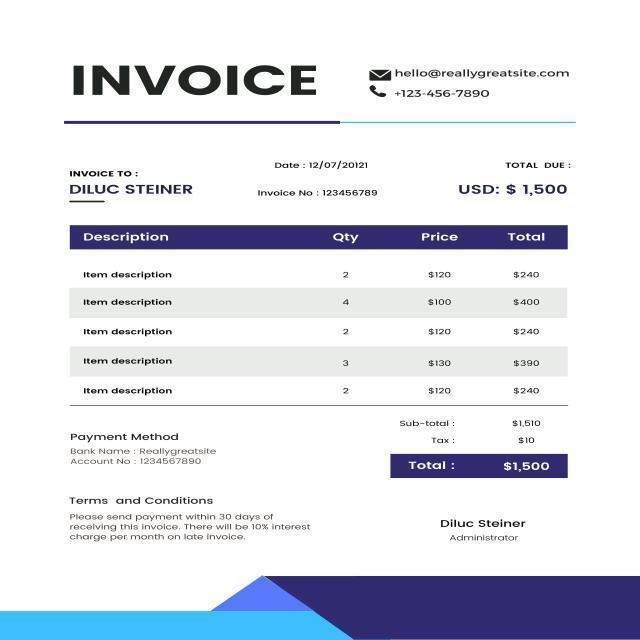paragraph: (68, 493, 328, 549), (55, 62, 321, 108), (392, 415, 569, 475), (368, 63, 584, 105), (59, 159, 201, 209), (60, 431, 226, 473), (459, 146, 578, 201), (266, 156, 380, 177)
table: (65, 224, 571, 403)
